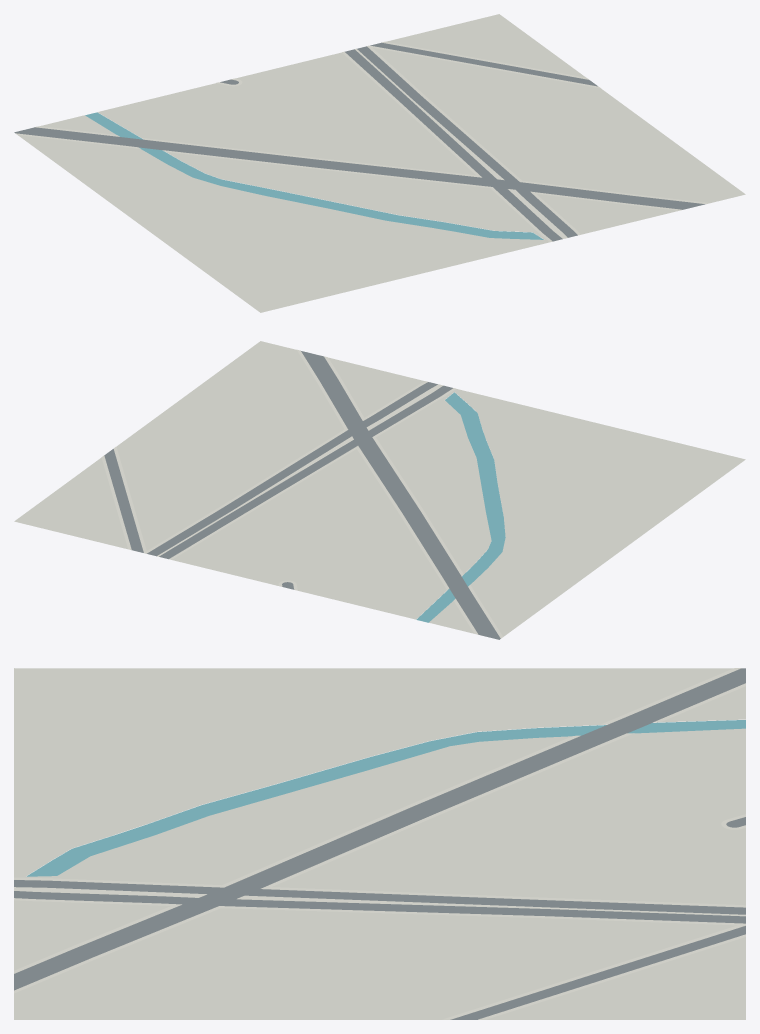
3 views of the same model, one above another, from view 1: azimuth 30°, elevation 25°; view 2: azimuth 150°, elevation 25°; view 3: azimuth 270°, elevation 25° (orthographic). The views are drawn at different scales.
Visible parts, largest first — view 1: city; view 2: city; view 3: city.
Boxes of the visible parts, x1,y1,x2,y2 form: city: (14, 14, 745, 312); city: (14, 341, 745, 639); city: (14, 668, 745, 1019).
Size of the model in its own units: 500 by 0.4 by 440.
